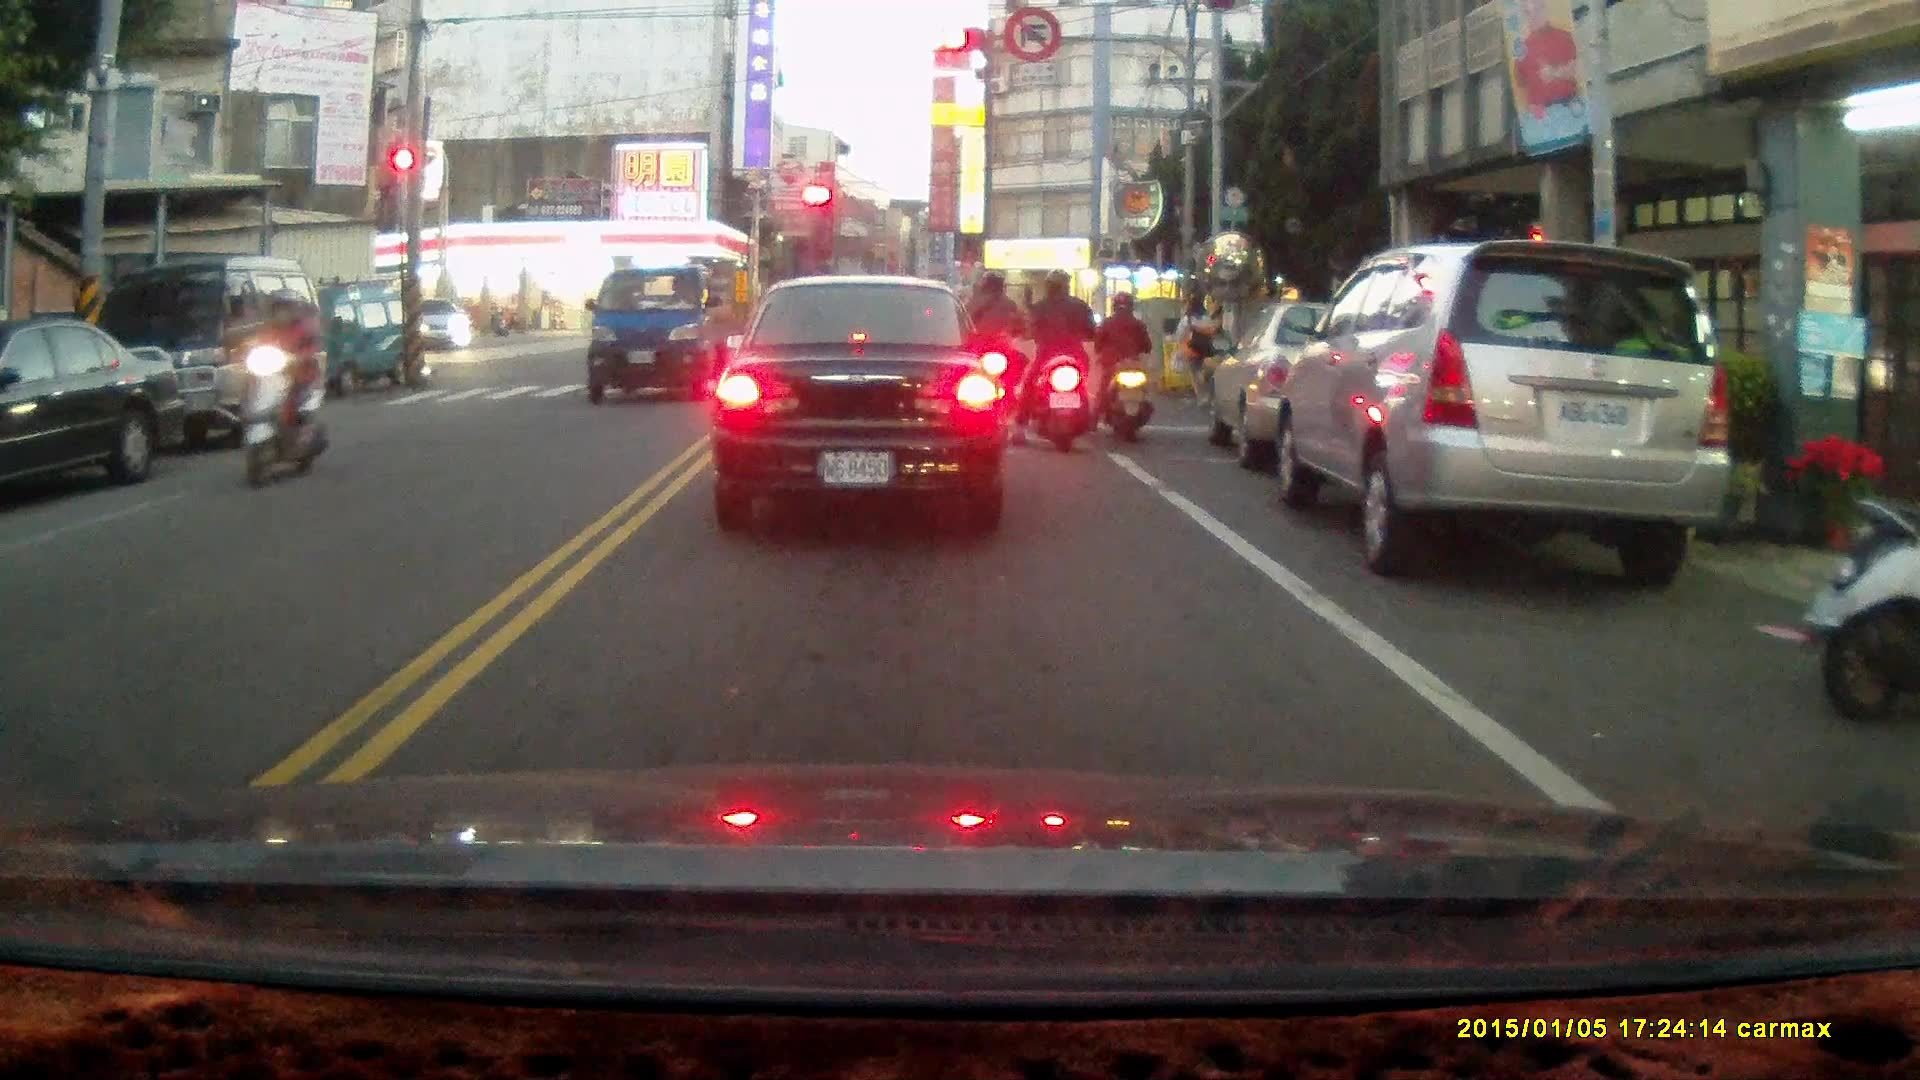pedestrian: (1166, 290, 1221, 411)
rider: (237, 286, 327, 485), (1011, 268, 1100, 454), (959, 267, 1023, 429), (1090, 286, 1154, 440)
vehicle: (1272, 231, 1737, 580), (714, 279, 1015, 527), (91, 244, 328, 439), (1209, 300, 1455, 475), (1, 310, 184, 495), (582, 266, 733, 399), (287, 271, 429, 398)
